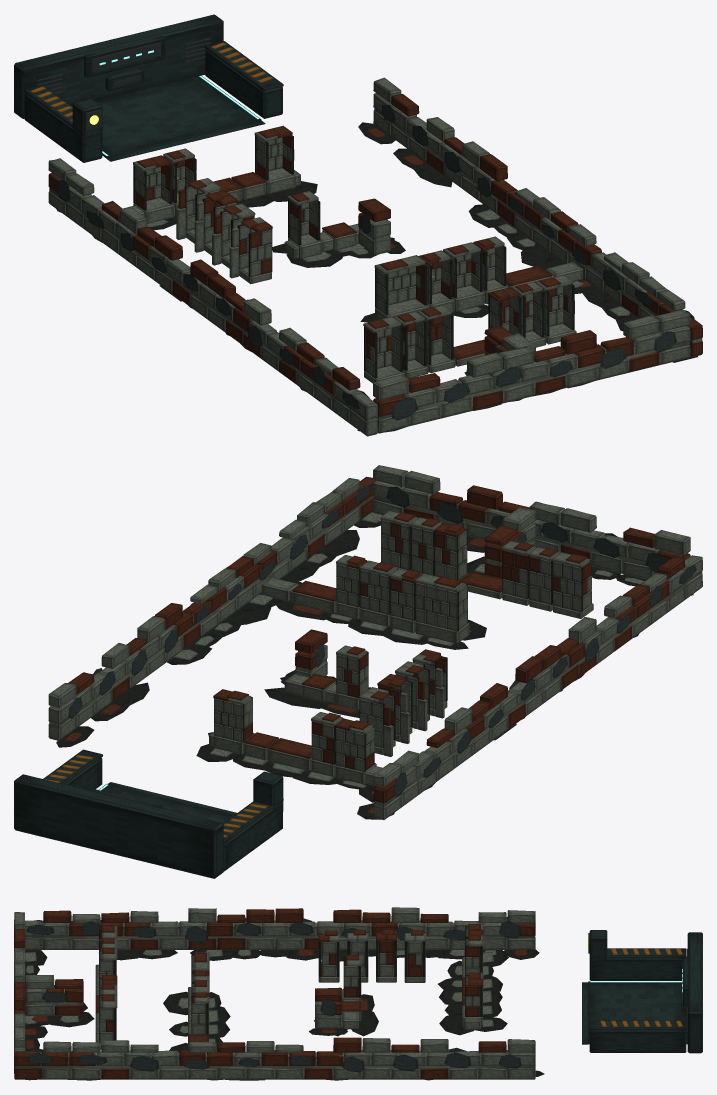
Rendered from ExcavationDepot_5x11.fbx.
The picture shows the model from 3 angles, top to bottom: view 1: azimuth 30°, elevation 25°; view 2: azimuth 150°, elevation 25°; view 3: azimuth 270°, elevation 25°; orthographic projection. The views are drawn at different scales.
Visible parts, largest first — view 1: THStage_ExtractionBay, THStage_WestBoundary, THStage_BackBoundary, THStage_EastBoundary, THStage_RuinGroundFragments, THStage_FindSupport_06, THStage_FindSupport_23, THStage_FindSupport_01, THStage_FindSupport_05, THStage_FindSupport_11, THStage_FindSupport_08, THStage_FindSupport_17 (+14 smaller); view 2: THStage_ExtractionBay, THStage_WestBoundary, THStage_EastBoundary, THStage_BackBoundary, THStage_RuinGroundFragments, THStage_FindSupport_06, THStage_FindSupport_11, THStage_FindSupport_01, THStage_FindSupport_05, THStage_FindSupport_08, THStage_RearRoomDivider, THStage_FindSupport_20 (+19 smaller); view 3: THStage_EastBoundary, THStage_WestBoundary, THStage_ExtractionBay, THStage_RuinGroundFragments, THStage_RearRoomDivider, THStage_BackBoundary, THStage_FindSupport_20, THStage_FindSupport_23, THStage_FindSupport_21, THStage_CentralReturn, THStage_FindSupport_05, THStage_FindSupport_17 (+9 smaller).
Boxes of the visible parts, x1=… form: THStage_ExtractionBay: x1=14, y1=14, x2=283, y2=162; THStage_WestBoundary: x1=48, y1=158, x2=377, y2=436; THStage_BackBoundary: x1=373, y1=309, x2=690, y2=433; THStage_EastBoundary: x1=373, y1=77, x2=702, y2=357; THStage_RuinGroundFragments: x1=56, y1=122, x2=697, y2=433; THStage_FindSupport_06: x1=374, y1=255, x2=429, y2=319; THStage_FindSupport_23: x1=229, y1=217, x2=272, y2=284; THStage_FindSupport_01: x1=133, y1=155, x2=174, y2=223; THStage_FindSupport_05: x1=254, y1=125, x2=295, y2=194; THStage_FindSupport_11: x1=363, y1=316, x2=404, y2=383; THStage_FindSupport_08: x1=443, y1=242, x2=484, y2=311; THStage_FindSupport_17: x1=535, y1=275, x2=576, y2=344; THStage_ExtractionBay: x1=14, y1=749, x2=283, y2=878; THStage_WestBoundary: x1=373, y1=555, x2=702, y2=819; THStage_EastBoundary: x1=48, y1=476, x2=375, y2=740; THStage_BackBoundary: x1=373, y1=465, x2=690, y2=579; THStage_RuinGroundFragments: x1=56, y1=511, x2=693, y2=819; THStage_FindSupport_06: x1=415, y1=573, x2=469, y2=643; THStage_FindSupport_11: x1=552, y1=552, x2=593, y2=618; THStage_FindSupport_01: x1=335, y1=718, x2=376, y2=784; THStage_FindSupport_05: x1=213, y1=689, x2=253, y2=754; THStage_FindSupport_08: x1=359, y1=560, x2=398, y2=627; THStage_RearRoomDivider: x1=484, y1=507, x2=536, y2=578; THStage_FindSupport_20: x1=359, y1=687, x2=395, y2=756; THStage_EastBoundary: x1=14, y1=1037, x2=535, y2=1079; THStage_WestBoundary: x1=25, y1=907, x2=535, y2=949; THStage_ExtractionBay: x1=582, y1=930, x2=702, y2=1053; THStage_RuinGroundFragments: x1=25, y1=949, x2=544, y2=1080; THStage_RearRoomDivider: x1=25, y1=975, x2=83, y2=1015; THStage_BackBoundary: x1=14, y1=912, x2=25, y2=1073; THStage_FindSupport_20: x1=404, y1=930, x2=425, y2=982; THStage_FindSupport_23: x1=318, y1=930, x2=339, y2=982; THStage_FindSupport_21: x1=376, y1=929, x2=396, y2=982; THStage_CentralReturn: x1=315, y1=987, x2=341, y2=1028; THStage_FindSupport_05: x1=462, y1=972, x2=483, y2=1027; THStage_FindSupport_17: x1=95, y1=994, x2=117, y2=1049.
Bounding box in the file's own units: 5 × 0.7911 × 10.82.
4 materials, 1 textured.
